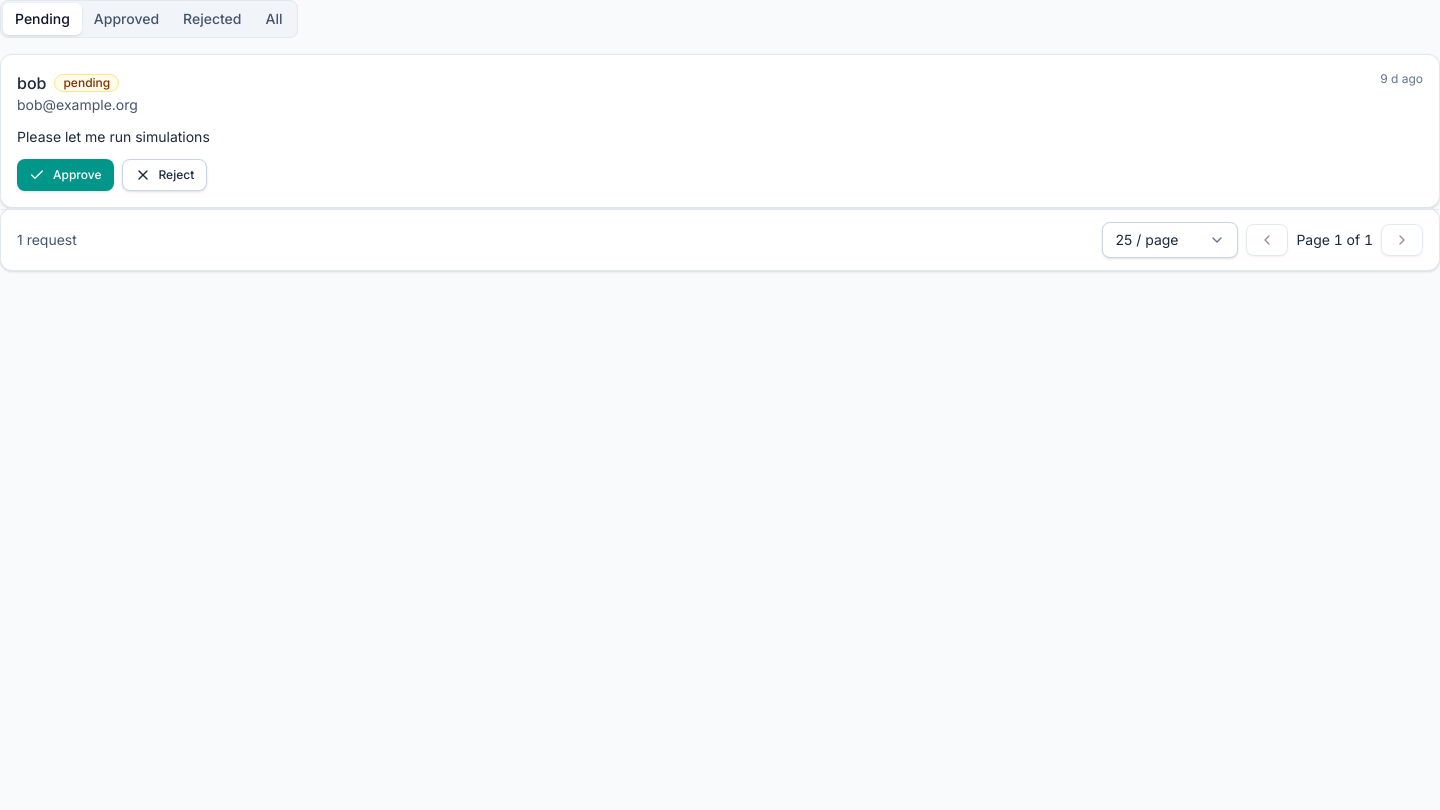
RequestsPage › approves with plan_days and note and removes the card
Check: the text "bob" is shown, box [17, 71, 46, 95]
Step 1. Click the button with aria-label "Approve bob" → (65, 175), box [17, 159, 114, 191]
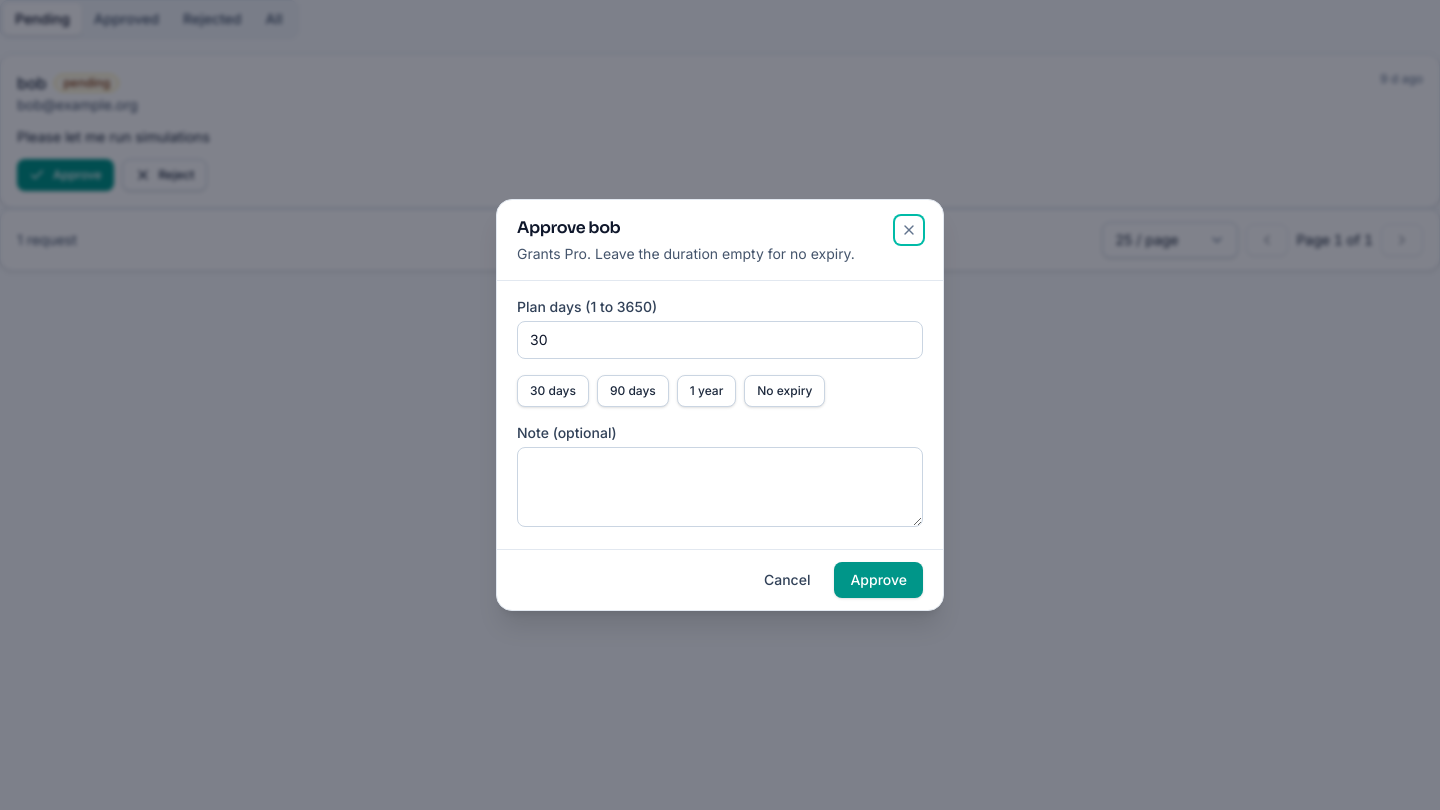
Step 2. Click the button "90 days" → (633, 391), box [597, 375, 669, 407]
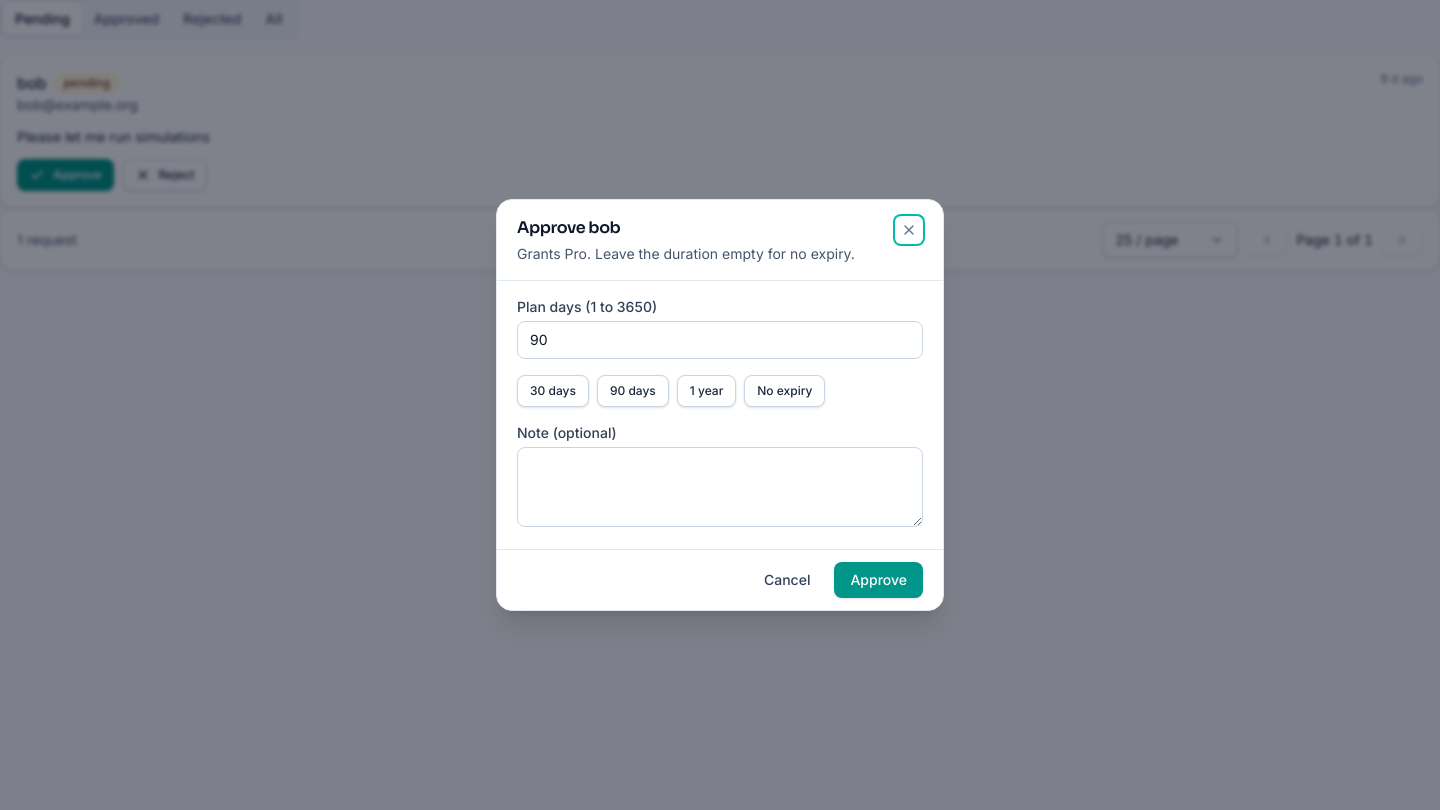
Step 3. Type "ok" into the text box labelled "Note (optional)" → (720, 487), box [517, 447, 923, 527]
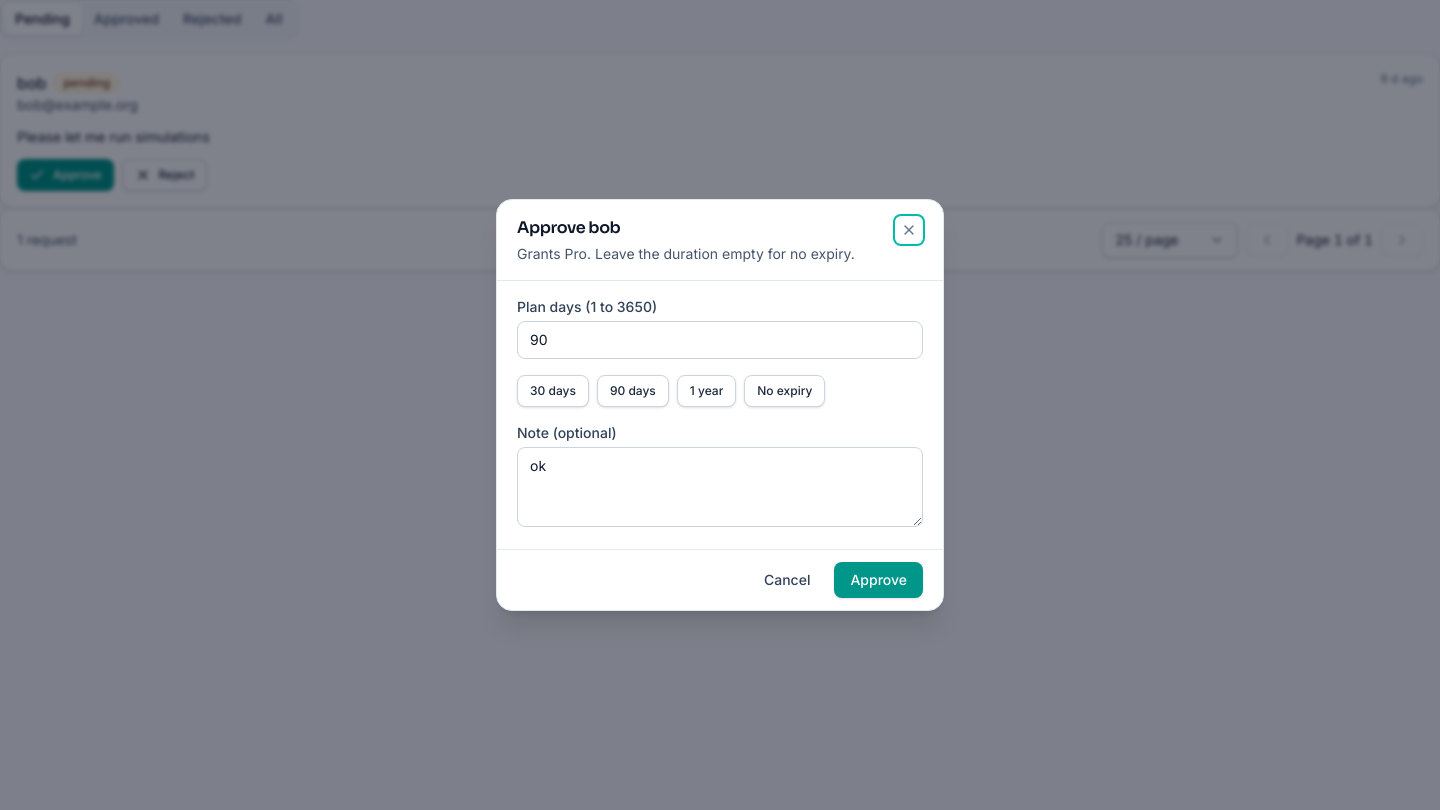
Step 4. Click the button "Approve" → (879, 580), box [834, 562, 923, 598]
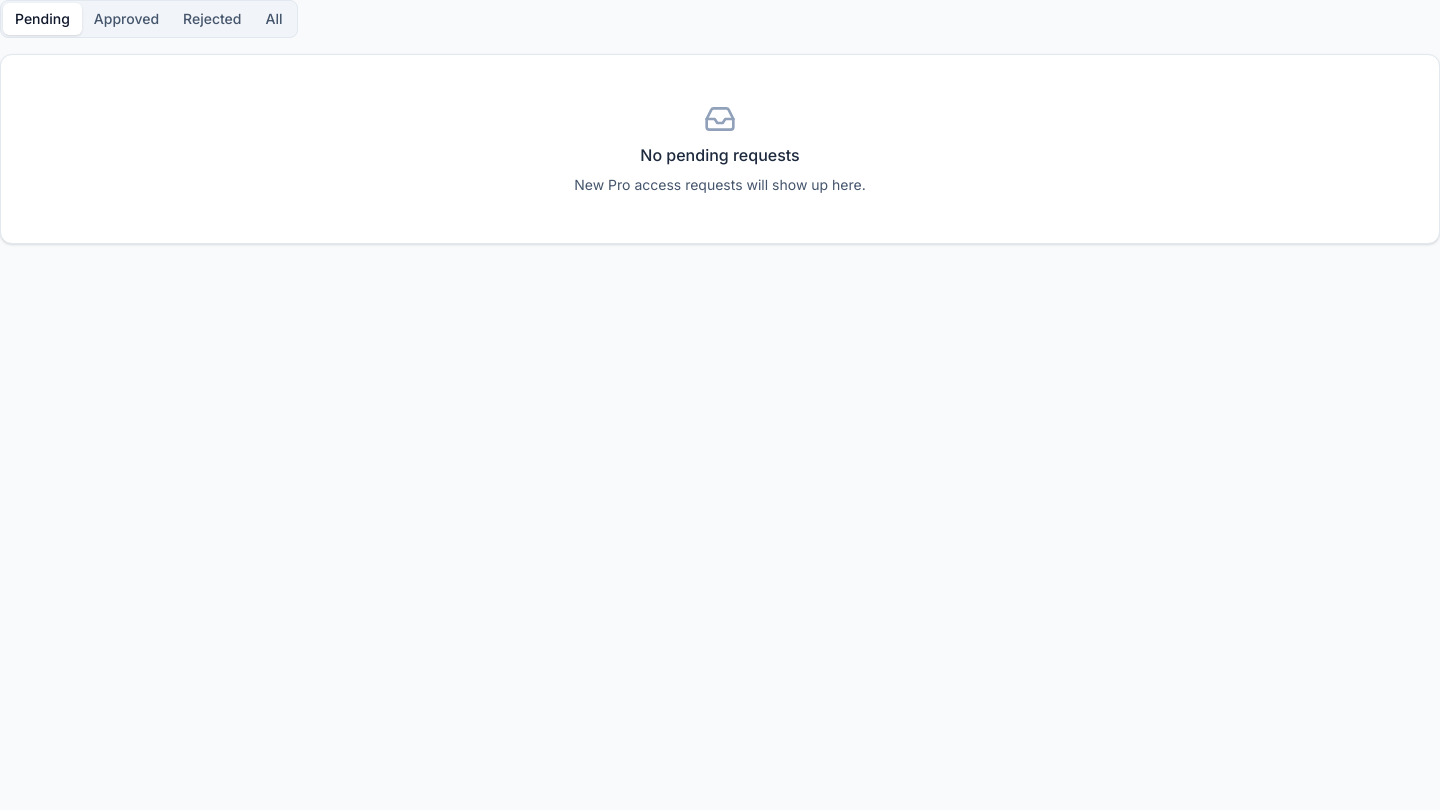
Check: the element with test id "request-5" is gone
Check: the text "No pending requests" is shown, box [640, 143, 800, 167]
